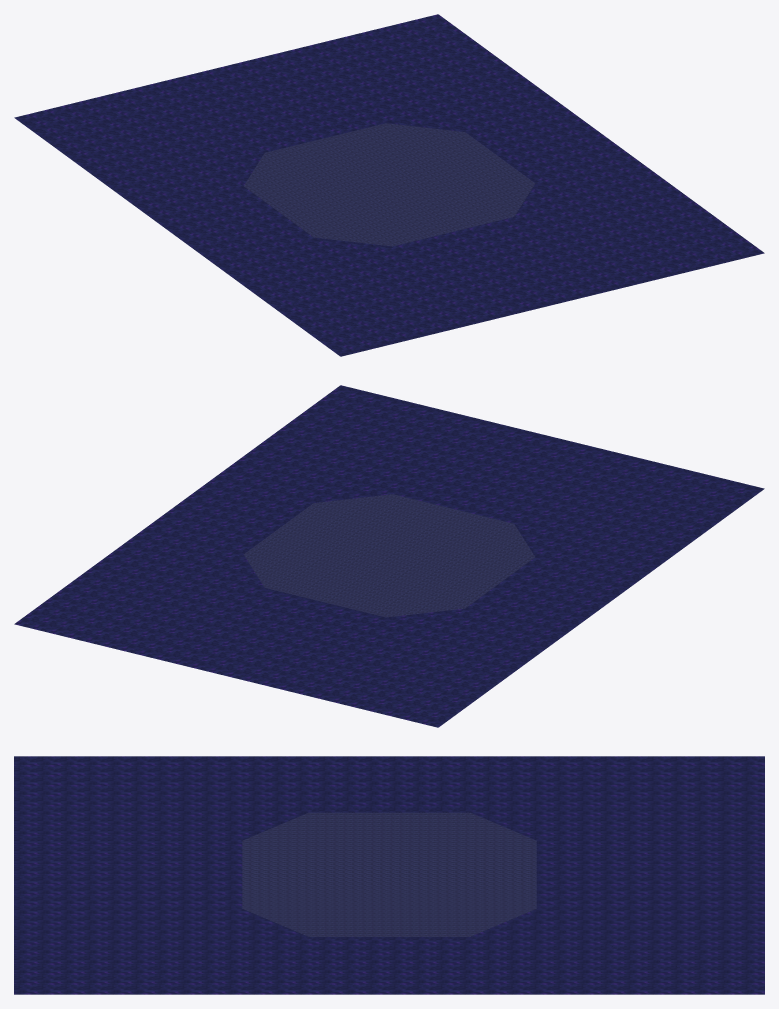
File: kb_floor_v35.glb
3 renders of one model, top to bottom at view 1: azimuth 30°, elevation 25°; view 2: azimuth 150°, elevation 25°; view 3: azimuth 270°, elevation 25°, orthographic. The views are drawn at different scales.
Parts seen in each view (by area): view 1: skin; view 2: skin; view 3: skin.
Boxes of the visible parts, x1,y1,x2,y2 form: skin: (14, 14, 764, 356); skin: (14, 385, 764, 727); skin: (14, 756, 764, 994).
Bounding box in the file's own units: 240 × 0.35 × 320.
2 materials, 2 textured.
